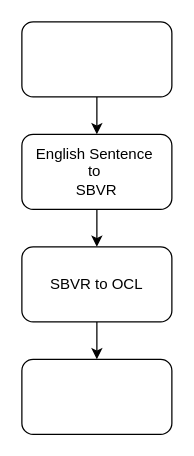
Some shapes in this 194 by 456 pixel diagram are drawn without their labels. Each missing label, with the centre of its shape:
English Sentence: [96,59]
OCL Constraint: [96,396]
